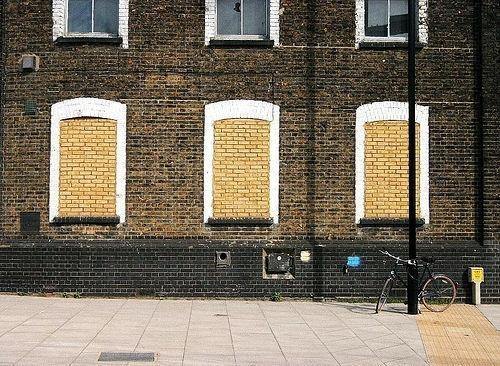bicycle: (378, 253, 460, 315)
